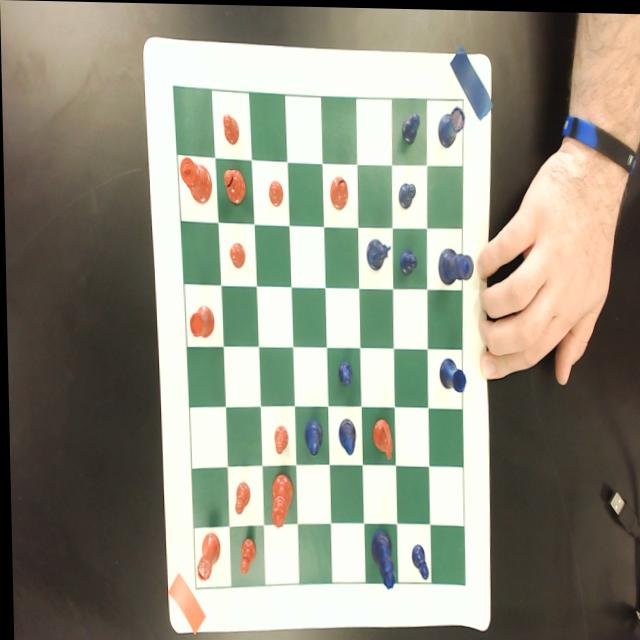B: (336, 415, 355, 456), (302, 417, 321, 456)
K: (437, 246, 473, 286)
N: (363, 231, 390, 272)
P: (408, 542, 427, 580), (400, 108, 419, 145), (398, 180, 417, 210), (335, 356, 352, 389), (399, 246, 417, 276)
Q: (368, 527, 393, 590)
R: (437, 104, 466, 148), (437, 357, 466, 395)
b: (222, 168, 246, 204), (329, 176, 349, 209)
k: (179, 156, 212, 205)
n: (369, 416, 392, 461)
p: (237, 536, 254, 574), (232, 481, 249, 515), (222, 112, 239, 145), (228, 240, 245, 269), (272, 424, 287, 454), (268, 179, 283, 207)
q: (269, 472, 292, 528)
r: (194, 531, 219, 581), (188, 304, 213, 339)
